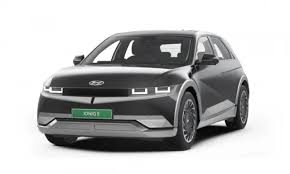Honda Ioniq: (18, 22, 255, 161)
